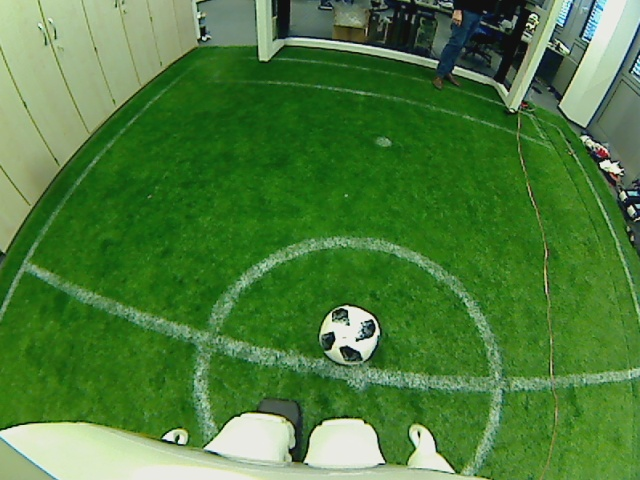ball: (317, 304, 381, 366)
